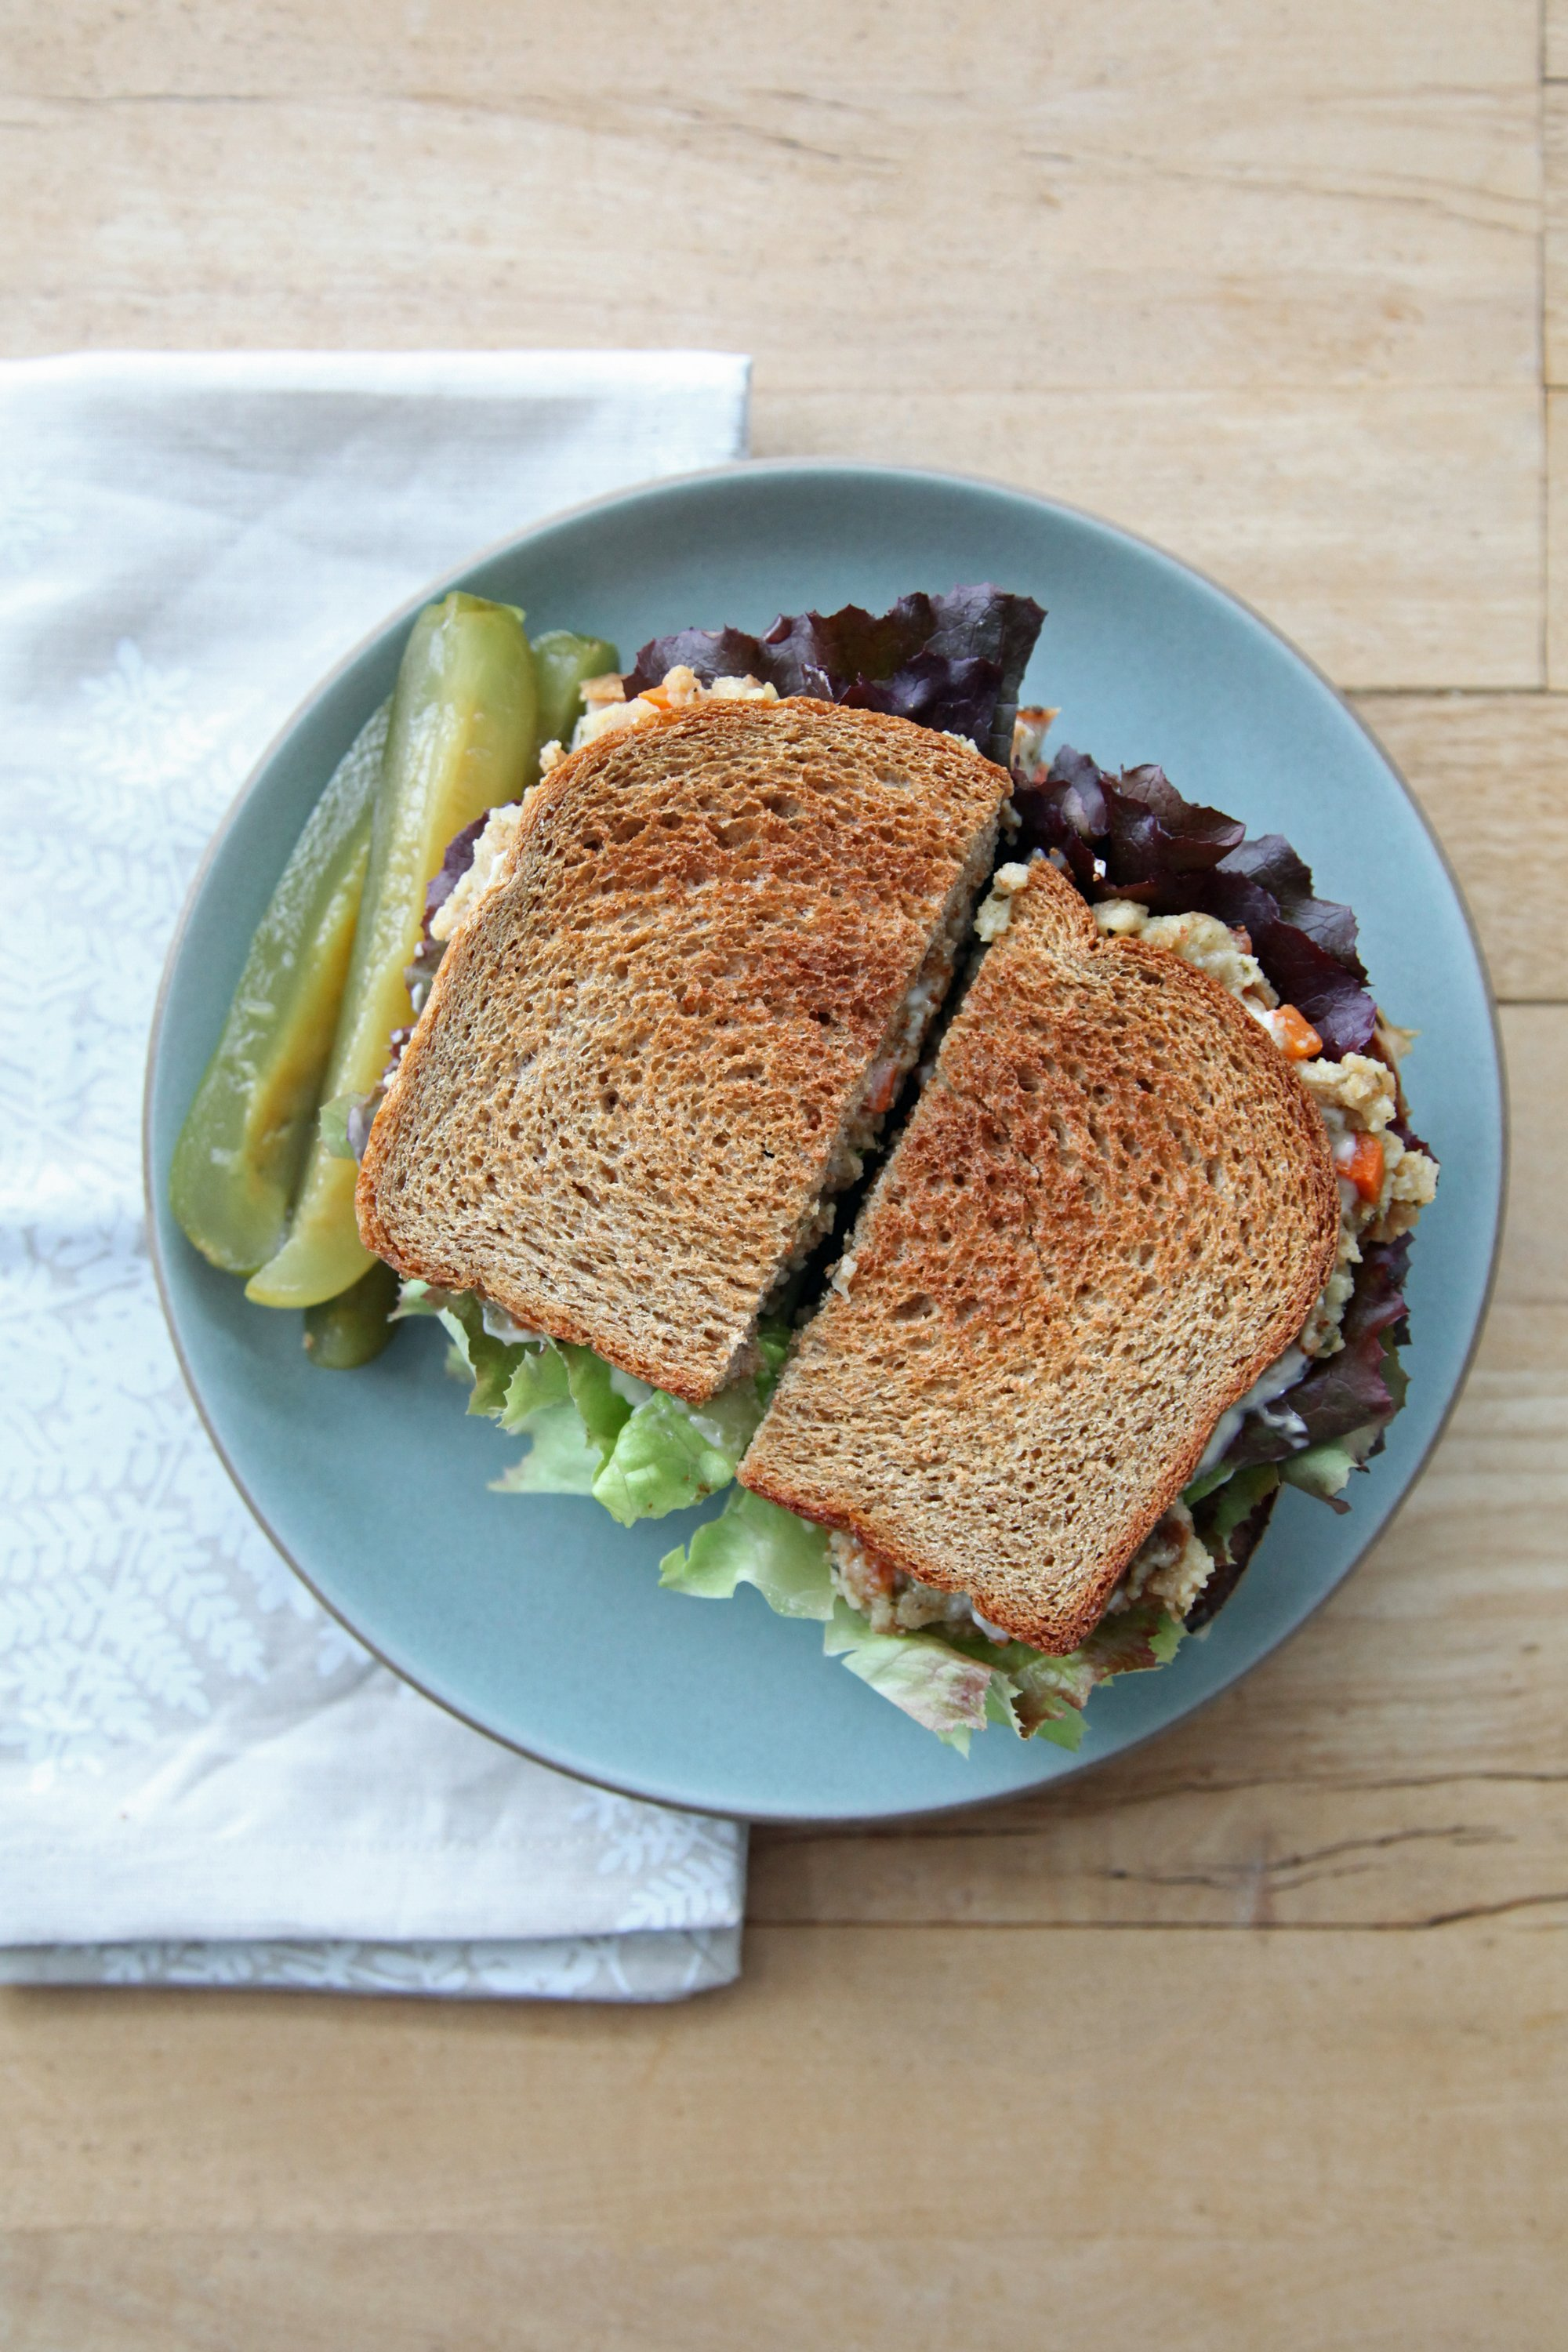chopped lettuce: (469, 1353, 819, 1619)
slice of bread: (366, 705, 1013, 1297), (784, 929, 1381, 1570)
